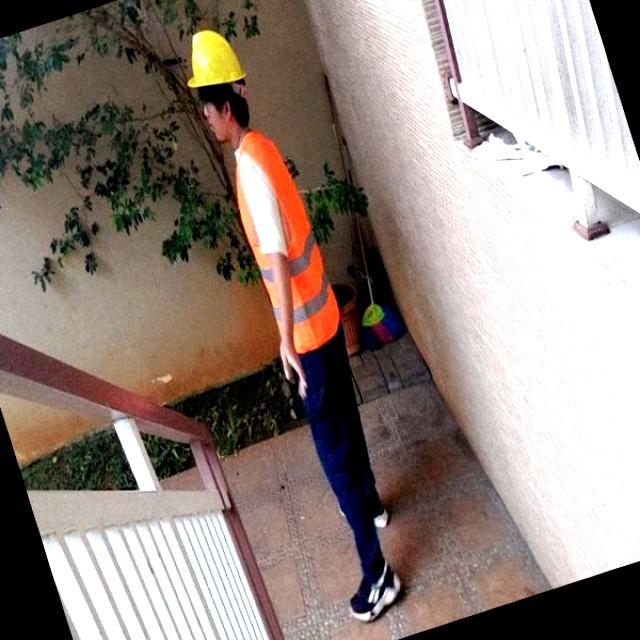helmet: (160, 27, 254, 92)
safety_vest: (220, 128, 356, 368)
